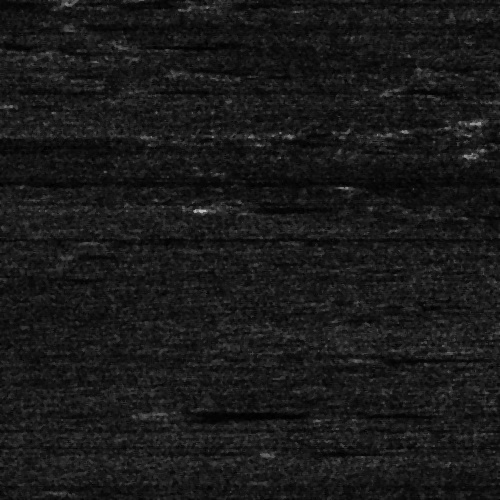object: (193, 202, 318, 211), (116, 406, 189, 417), (67, 237, 150, 242), (331, 355, 384, 360)
shadow: (152, 406, 280, 417), (256, 202, 351, 211), (358, 355, 465, 360), (108, 237, 199, 242)
